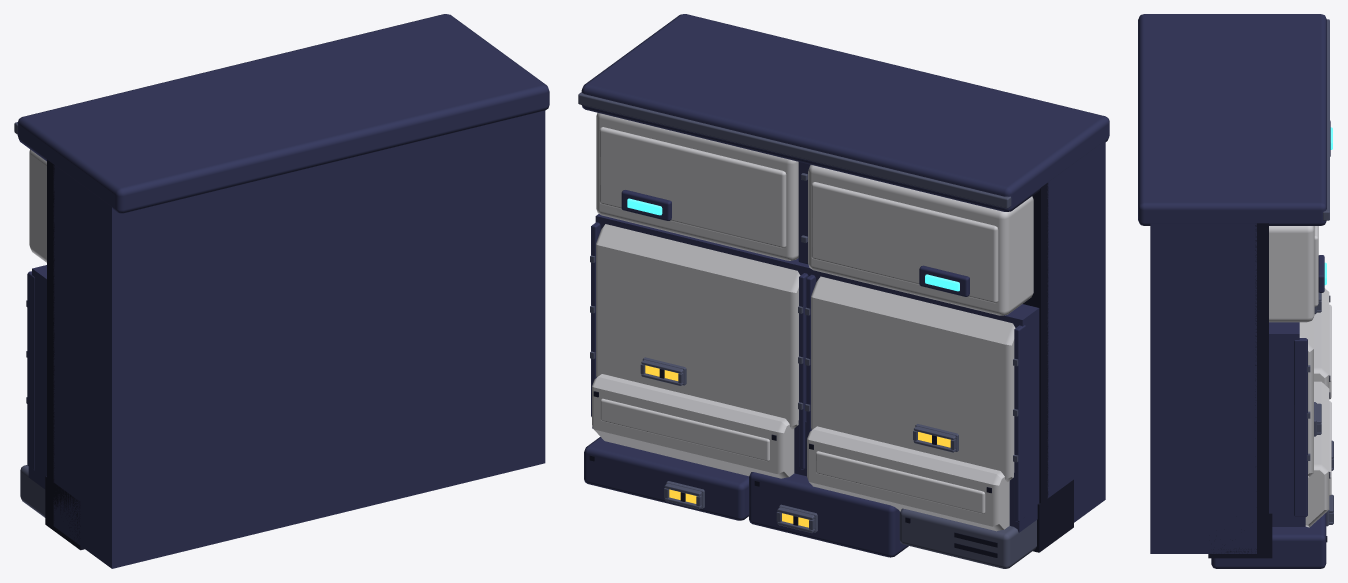
The model's file is hull.bay.plate_large.canopy_sill.none.plate.w3.000.s0.k-1.25.t-0.95_0.42_1.3_1.85.glb.
3 renders of one model, left to right at view 1: azimuth 30°, elevation 25°; view 2: azimuth 150°, elevation 25°; view 3: azimuth 270°, elevation 25°, orthographic. The views are drawn at different scales.
Visible parts, largest first — view 1: hull.bay.plate_large.canopy_sill.none.plate.w3.000.s0.k-1.25; view 2: hull.bay.plate_large.canopy_sill.none.plate.w3.000.s0.k-1.25; view 3: hull.bay.plate_large.canopy_sill.none.plate.w3.000.s0.k-1.25.
Part boxes in pixels (x1,y1,x2,y2): hull.bay.plate_large.canopy_sill.none.plate.w3.000.s0.k-1.25: (14, 14, 549, 568); hull.bay.plate_large.canopy_sill.none.plate.w3.000.s0.k-1.25: (578, 14, 1109, 568); hull.bay.plate_large.canopy_sill.none.plate.w3.000.s0.k-1.25: (1138, 14, 1333, 568).
Size of the model in its own units: 3 by 2.66 by 1.29.
